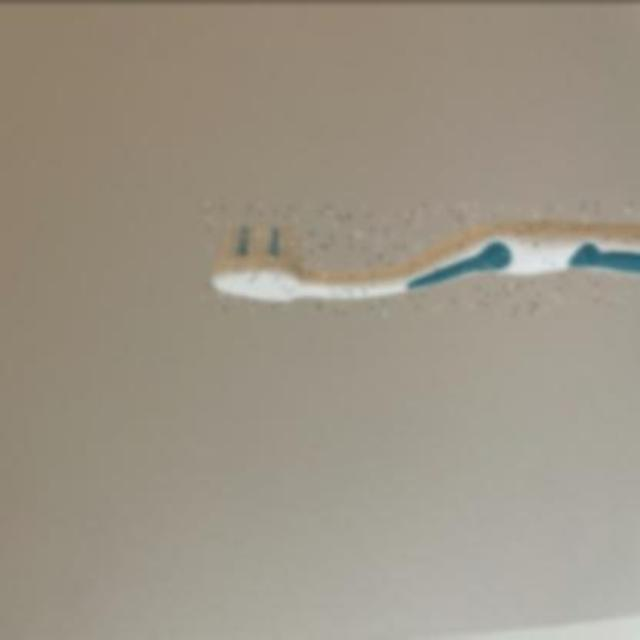toothbrush: (200, 202, 640, 314)
